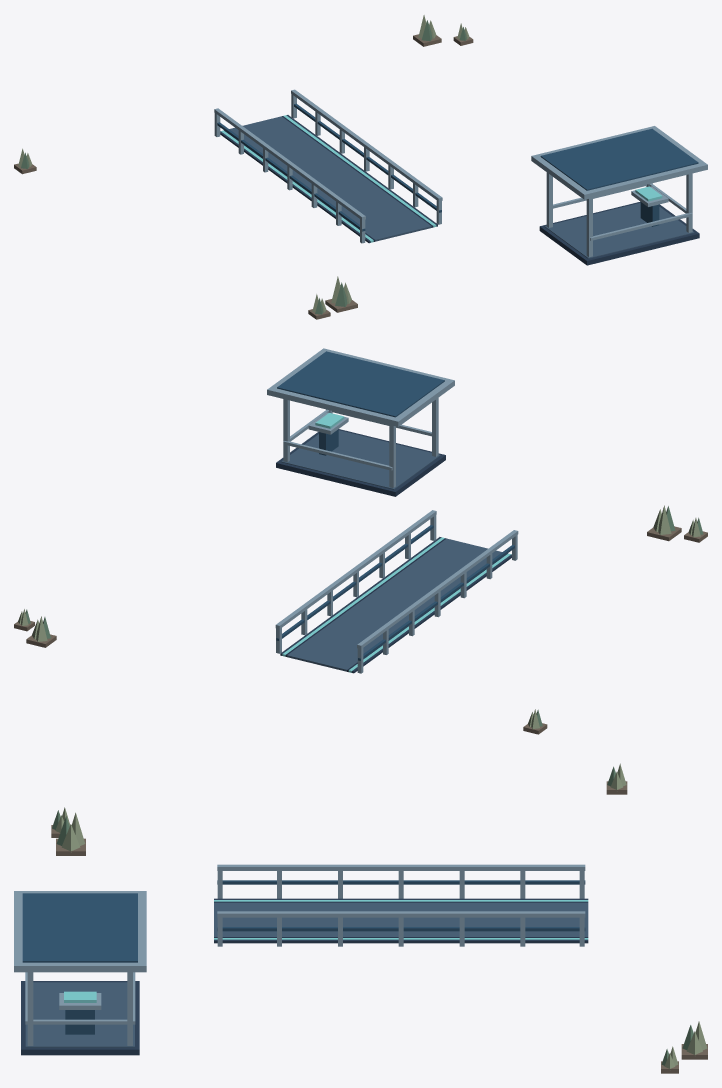
File: campus_canyon_decor_v01.glb
3 views of the same model, one above another, from view 1: azimuth 30°, elevation 25°; view 2: azimuth 150°, elevation 25°; view 3: azimuth 270°, elevation 25° (orthographic). The views are drawn at different scales.
Parts seen in each view (by area): view 1: campus_canyon_decor; view 2: campus_canyon_decor; view 3: campus_canyon_decor.
Part boxes in pixels (<box>): campus_canyon_decor: <box>14,15,707,319</box>; campus_canyon_decor: <box>14,348,707,734</box>; campus_canyon_decor: <box>14,763,707,1073</box>.
Size of the model in its own units: 21.83 by 3.32 by 22.24.
Materials: 1 (1 with a texture image).
